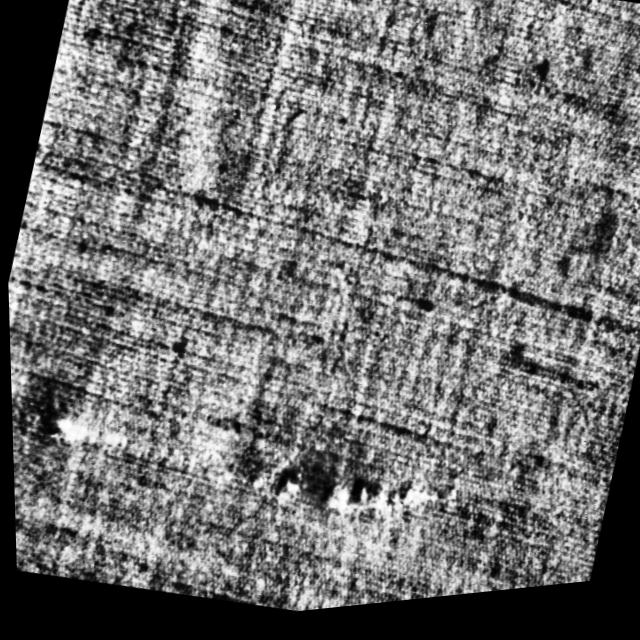Stitch: (261, 442, 442, 556), (9, 358, 172, 483)
